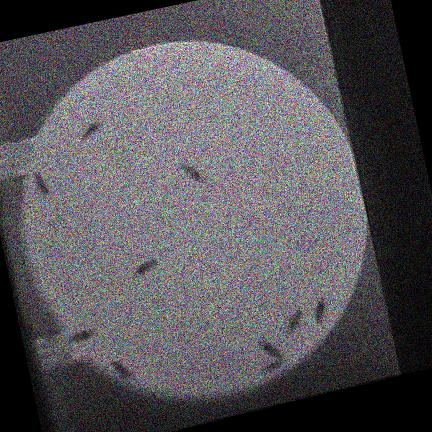fly: (259, 340, 284, 360), (134, 258, 158, 276), (286, 309, 303, 334), (112, 360, 134, 379), (81, 121, 103, 140), (182, 163, 203, 182), (34, 172, 50, 194), (261, 360, 284, 374), (70, 330, 95, 342), (315, 299, 326, 323)
